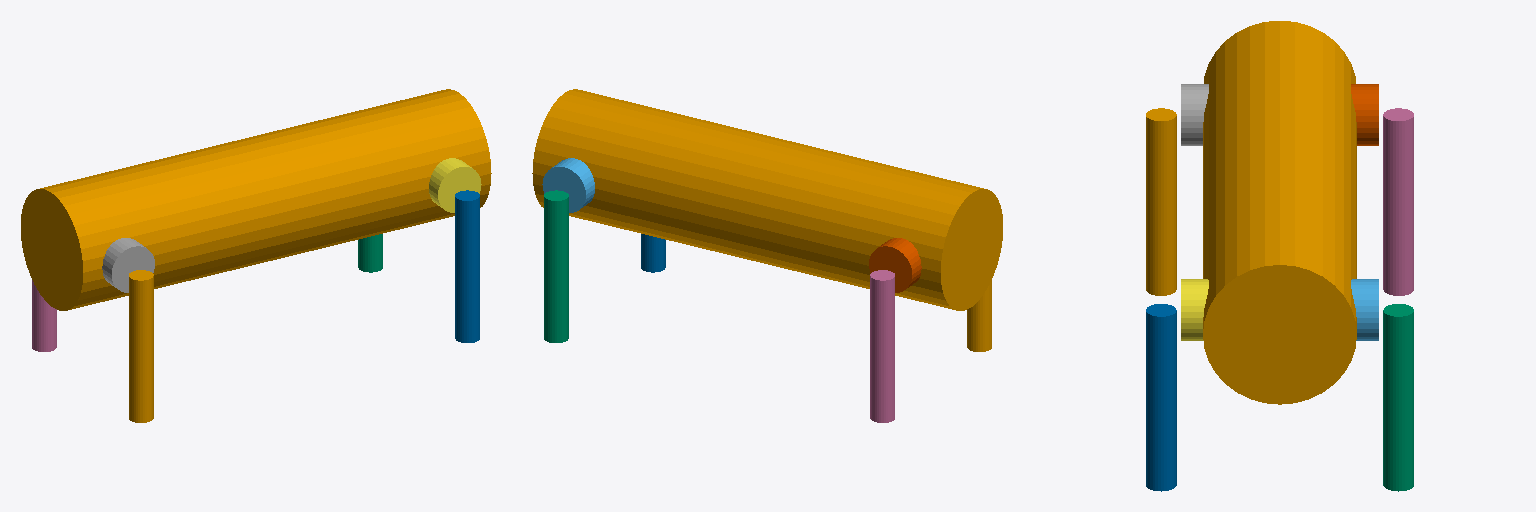
URDF robot description (quadruped):
<?xml version="1.0" encoding="utf-8"?>
<robot name="quadruped">
    <link name="base">
        <visual>
            <origin rpy="0 1.57079632679 0" xyz="0 0 0"/>
            <geometry>
                <cylinder length="0.75" radius="0.1"/>
            </geometry>
        </visual>
        <collision>
            <origin rpy="0 1.57079632679 0" xyz="0 0 0"/>
            <geometry>
                <cylinder length="0.75" radius="0.1"/>
            </geometry>
        </collision>
        <inertial>
            <origin rpy="0 0 0" xyz="0 0 0.024"/>
            <mass value="6.222"/>
            <inertia ixx="0.017938806" ixy="0.00387963" ixz="0.001500772" iyy="0.370887745" iyz="6.8963e-05" izz="0.372497653"/>
        </inertial>
    </link>

    <link name="LF_HAA">
        <visual>
            <origin rpy="1.57079632679 0 0" xyz="0 0 0"/>
            <geometry>
                <cylinder length="0.05" radius="0.04"/>
            </geometry>
        </visual>
        <collision>
            <origin rpy="1.57079632679 0 0" xyz="0 0 0"/>
            <geometry>
                <cylinder length="0.05" radius="0.04"/>
            </geometry>
        </collision>
        <inertial>
            <origin rpy="0 0 0" xyz="0 0 0.00046"/>
            <mass value="2.04"/>
            <inertia ixx="0.001053013" ixy="4.527e-05" ixz="8.855e-05" iyy="0.001805509" iyz="9.909e-05" izz="0.001765827"/>
        </inertial>
    </link>
    <joint name="LF_HAA" type="revolute">
        <parent link="base"/>
        <child link="LF_HAA"/>
        <origin rpy="0 0 0" xyz="0.2999 0.104 0.0"/>
        <axis xyz="1 0 0"/>
        <limit effort="80.0" velocity="20."/>
    </joint>

    <link name="LF_THIGH">
        <visual>
            <origin rpy="0 0 0" xyz="0 0 -0.125"/>
            <geometry>
                <cylinder length="0.25" radius="0.02"/>
            </geometry>
        </visual>
        <collision>
            <origin rpy="0 0 0" xyz="0 0 -0.125"/>
            <geometry>
                <cylinder length="0.25" radius="0.02"/>
            </geometry>
        </collision>
        <inertial>
            <origin rpy="0 0 0" xyz="0 0 -0.125"/>
            <mass value="2.04"/>
            <inertia ixx="0.001053013" ixy="4.527e-05" ixz="8.855e-05" iyy="0.001805509" iyz="9.909e-05" izz="0.001765827"/>
        </inertial>
    </link>
    <joint name="LF_HFE" type="revolute">
        <parent link="LF_HAA"/>
        <child link="LF_THIGH"/>
        <origin rpy="0 0 1.57079632679" xyz="0 0.05 0"/>
        <axis xyz="1 0 0"/>
        <limit effort="80.0" velocity="20."/>
    </joint>

    <link name="RF_HAA">
        <visual>
            <origin rpy="1.57079632679 0 0" xyz="0 0 0"/>
            <geometry>
                <cylinder length="0.05" radius="0.04"/>
            </geometry>
        </visual>
        <collision>
            <origin rpy="1.57079632679 0 0" xyz="0 0 0"/>
            <geometry>
                <cylinder length="0.05" radius="0.04"/>
            </geometry>
        </collision>
        <inertial>
            <origin rpy="0 0 0" xyz="0 0 0.00046"/>
            <mass value="2.04"/>
            <inertia ixx="0.001053013" ixy="4.527e-05" ixz="8.855e-05" iyy="0.001805509" iyz="9.909e-05" izz="0.001765827"/>
        </inertial>
    </link>
    <joint name="RF_HAA" type="revolute">
        <parent link="base"/>
        <child link="RF_HAA"/>
        <origin rpy="0 0 0" xyz="0.2999 -0.104 0.0"/>
        <axis xyz="1 0 0"/>
        <limit effort="80.0" velocity="20."/>
    </joint>

    <link name="RF_THIGH">
        <visual>
            <origin rpy="0 0 0" xyz="0 0 -0.125"/>
            <geometry>
                <cylinder length="0.25" radius="0.02"/>
            </geometry>
        </visual>
        <collision>
            <origin rpy="0 0 0" xyz="0 0 -0.125"/>
            <geometry>
                <cylinder length="0.25" radius="0.02"/>
            </geometry>
        </collision>
        <inertial>
            <origin rpy="0 0 0" xyz="0 0 -0.125"/>
            <mass value="2.04"/>
            <inertia ixx="0.001053013" ixy="4.527e-05" ixz="8.855e-05" iyy="0.001805509" iyz="9.909e-05" izz="0.001765827"/>
        </inertial>
    </link>
    <joint name="RF_HFE" type="revolute">
        <parent link="RF_HAA"/>
        <child link="RF_THIGH"/>
        <origin rpy="0 0 -1.57079632679" xyz="0 -0.05 0"/>
        <axis xyz="1 0 0"/>
        <limit effort="80.0" velocity="20."/>
    </joint>

    <link name="LH_HAA">
        <visual>
            <origin rpy="1.57079632679 0 0" xyz="0 0 0"/>
            <geometry>
                <cylinder length="0.05" radius="0.04"/>
            </geometry>
        </visual>
        <collision>
            <origin rpy="1.57079632679 0 0" xyz="0 0 0"/>
            <geometry>
                <cylinder length="0.05" radius="0.04"/>
            </geometry>
        </collision>
        <inertial>
            <origin rpy="0 0 0" xyz="0 0 0.00046"/>
            <mass value="2.04"/>
            <inertia ixx="0.001053013" ixy="4.527e-05" ixz="8.855e-05" iyy="0.001805509" iyz="9.909e-05" izz="0.001765827"/>
        </inertial>
    </link>
    <joint name="LH_HAA" type="revolute">
        <parent link="base"/>
        <child link="LH_HAA"/>
        <origin rpy="0 0 3.1415" xyz="-0.2999 0.104 0.0"/>
        <axis xyz="1 0 0"/>
        <limit effort="80.0" velocity="20."/>
    </joint>

    <link name="LH_THIGH">
        <visual>
            <origin rpy="0 0 0" xyz="0 0 -0.125"/>
            <geometry>
                <cylinder length="0.25" radius="0.02"/>
            </geometry>
        </visual>
        <collision>
            <origin rpy="0 0 0" xyz="0 0 -0.125"/>
            <geometry>
                <cylinder length="0.25" radius="0.02"/>
            </geometry>
        </collision>
        <inertial>
            <origin rpy="0 0 0" xyz="0 0 -0.125"/>
            <mass value="2.04"/>
            <inertia ixx="0.001053013" ixy="4.527e-05" ixz="8.855e-05" iyy="0.001805509" iyz="9.909e-05" izz="0.001765827"/>
        </inertial>
    </link>
    <joint name="LH_HFE" type="revolute">
        <parent link="LH_HAA"/>
        <child link="LH_THIGH"/>
        <origin rpy="0 0 1.57079632679" xyz="0 -0.05 0"/>
        <axis xyz="1 0 0"/>
        <limit effort="80.0" velocity="20."/>
    </joint>

    <link name="RH_HAA">
        <visual>
            <origin rpy="1.57079632679 0 0" xyz="0 0 0"/>
            <geometry>
                <cylinder length="0.05" radius="0.04"/>
            </geometry>
        </visual>
        <collision>
            <origin rpy="1.57079632679 0 0" xyz="0 0 0"/>
            <geometry>
                <cylinder length="0.05" radius="0.04"/>
            </geometry>
        </collision>
        <inertial>
            <origin rpy="0 0 0" xyz="0 0 0.00046"/>
            <mass value="2.04"/>
            <inertia ixx="0.001053013" ixy="4.527e-05" ixz="8.855e-05" iyy="0.001805509" iyz="9.909e-05" izz="0.001765827"/>
        </inertial>
    </link>
    <joint name="RH_HAA" type="revolute">
        <parent link="base"/>
        <child link="RH_HAA"/>
        <origin rpy="0 0 3.1415" xyz="-0.2999 -0.104 0.0"/>
        <axis xyz="1 0 0"/>
        <limit effort="80.0" velocity="20."/>
    </joint>

    <link name="RH_THIGH">
        <visual>
            <origin rpy="0 0 0" xyz="0 0 -0.125"/>
            <geometry>
                <cylinder length="0.25" radius="0.02"/>
            </geometry>
        </visual>
        <collision>
            <origin rpy="0 0 0" xyz="0 0 -0.125"/>
            <geometry>
                <cylinder length="0.25" radius="0.02"/>
            </geometry>
        </collision>
        <inertial>
            <origin rpy="0 0 0" xyz="0 0 -0.125"/>
            <mass value="2.04"/>
            <inertia ixx="0.001053013" ixy="4.527e-05" ixz="8.855e-05" iyy="0.001805509" iyz="9.909e-05" izz="0.001765827"/>
        </inertial>
    </link>
    <joint name="RH_HFE" type="revolute">
        <parent link="RH_HAA"/>
        <child link="RH_THIGH"/>
        <origin rpy="0 0 -1.57079632679" xyz="0 0.05 0"/>
        <axis xyz="1 0 0"/>
        <limit effort="80.0" velocity="20."/>
    </joint>
</robot>

--- Render facts (derived) ---
3 views of the same robot in one strip: view 1: azimuth 30°, elevation 25°; view 2: azimuth 150°, elevation 25°; view 3: azimuth 270°, elevation 25° (orthographic).
Model quadruped with 9 links and 8 joints (8 revolute), rooted at base, posed every joint at zero.
Links seen in each view (by area): view 1: base, RH_THIGH, RF_THIGH, RH_HAA, RF_HAA, LH_THIGH, LF_THIGH; view 2: base, LH_THIGH, LF_THIGH, LH_HAA, LF_HAA, RH_THIGH, RF_THIGH; view 3: base, LH_THIGH, RH_THIGH, LF_THIGH, RF_THIGH, LF_HAA, RF_HAA, LH_HAA, RH_HAA.
Boxes of the visible links, box(x1,y1,x2,y2) form: base: box(21, 89, 491, 310); RH_THIGH: box(129, 270, 153, 422); RF_THIGH: box(455, 190, 479, 342); RH_HAA: box(102, 238, 154, 292); RF_HAA: box(429, 158, 481, 212); LH_THIGH: box(32, 280, 56, 351); LF_THIGH: box(358, 234, 382, 272); base: box(532, 89, 1002, 310); LH_THIGH: box(870, 270, 894, 422); LF_THIGH: box(544, 190, 568, 342); LH_HAA: box(869, 238, 921, 292); LF_HAA: box(542, 158, 594, 212); RH_THIGH: box(967, 280, 991, 351); RF_THIGH: box(641, 234, 665, 272); base: box(1203, 21, 1356, 404); LH_THIGH: box(1383, 108, 1413, 295); RH_THIGH: box(1146, 108, 1176, 295); LF_THIGH: box(1383, 304, 1413, 491); RF_THIGH: box(1146, 304, 1176, 491); LF_HAA: box(1351, 279, 1378, 340); RF_HAA: box(1181, 279, 1208, 340); LH_HAA: box(1351, 84, 1378, 145); RH_HAA: box(1181, 84, 1208, 145).
Bounding box of the posed robot: 0.75 × 0.348 × 0.35 m (x, y, z).
Geometry: primitives only (box / cylinder / sphere), no mesh files.
